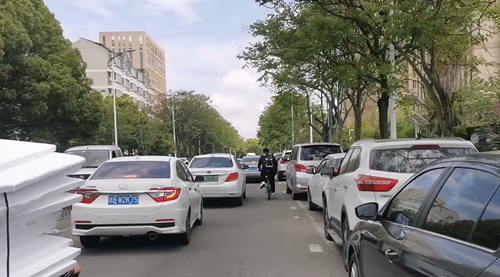bicycle: (259, 175, 275, 200)
car: (339, 153, 499, 277), (322, 138, 479, 236), (70, 155, 205, 247), (283, 142, 344, 198), (187, 153, 247, 205), (307, 153, 345, 212), (63, 144, 124, 177), (240, 154, 264, 181), (274, 151, 291, 180), (240, 155, 260, 170)
person: (257, 149, 278, 192)
truck: (1, 139, 87, 277)
